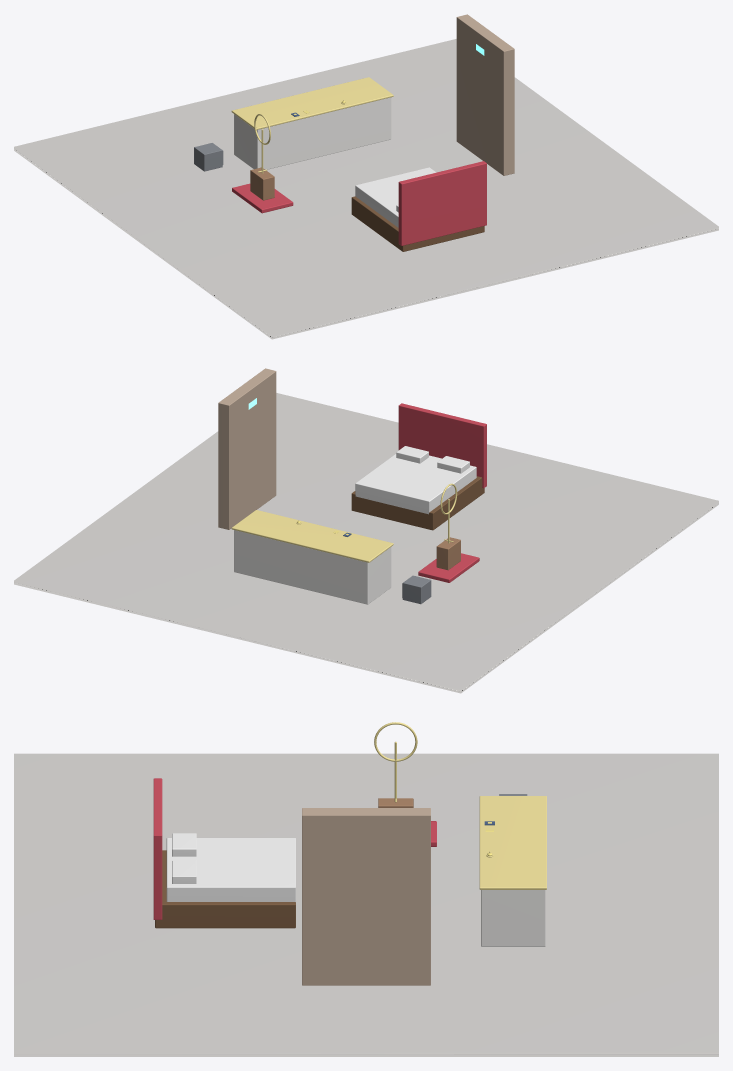
File: hotel.glb
3 renders of one model, top to bottom at view 1: azimuth 30°, elevation 25°; view 2: azimuth 150°, elevation 25°; view 3: azimuth 270°, elevation 25°, orthographic. The views are drawn at different scales.
Visible parts, largest first — view 1: Hotel_Lobby_Floor, Reception_Desk, King_Bed, Elevator, Luggage_Cart, Safe_Box, Suitcase; view 2: Hotel_Lobby_Floor, King_Bed, Reception_Desk, Elevator, Luggage_Cart, Safe_Box, Suitcase; view 3: Hotel_Lobby_Floor, Elevator, King_Bed, Reception_Desk, Luggage_Cart.
Boxes of the visible parts, x1=… form: Hotel_Lobby_Floor: x1=14, y1=39, x2=718, y2=339; Reception_Desk: x1=231, y1=77, x2=393, y2=169; King_Bed: x1=351, y1=161, x2=486, y2=251; Elevator: x1=456, y1=14, x2=514, y2=175; Luggage_Cart: x1=232, y1=114, x2=293, y2=213; Safe_Box: x1=194, y1=143, x2=223, y2=171; Suitcase: x1=250, y1=167, x2=274, y2=200; Hotel_Lobby_Floor: x1=14, y1=393, x2=718, y2=693; King_Bed: x1=351, y1=403, x2=486, y2=530; Reception_Desk: x1=231, y1=510, x2=393, y2=604; Elevator: x1=218, y1=368, x2=276, y2=529; Luggage_Cart: x1=418, y1=483, x2=479, y2=582; Safe_Box: x1=402, y1=575, x2=431, y2=604; Suitcase: x1=436, y1=537, x2=460, y2=570; Hotel_Lobby_Floor: x1=14, y1=753, x2=718, y2=1056; Elevator: x1=302, y1=808, x2=430, y2=985; King_Bed: x1=153, y1=778, x2=295, y2=928; Reception_Desk: x1=479, y1=796, x2=546, y2=946; Luggage_Cart: x1=374, y1=722, x2=436, y2=846.
Bounding box in the file's own units: 12 × 3.3 × 12.
